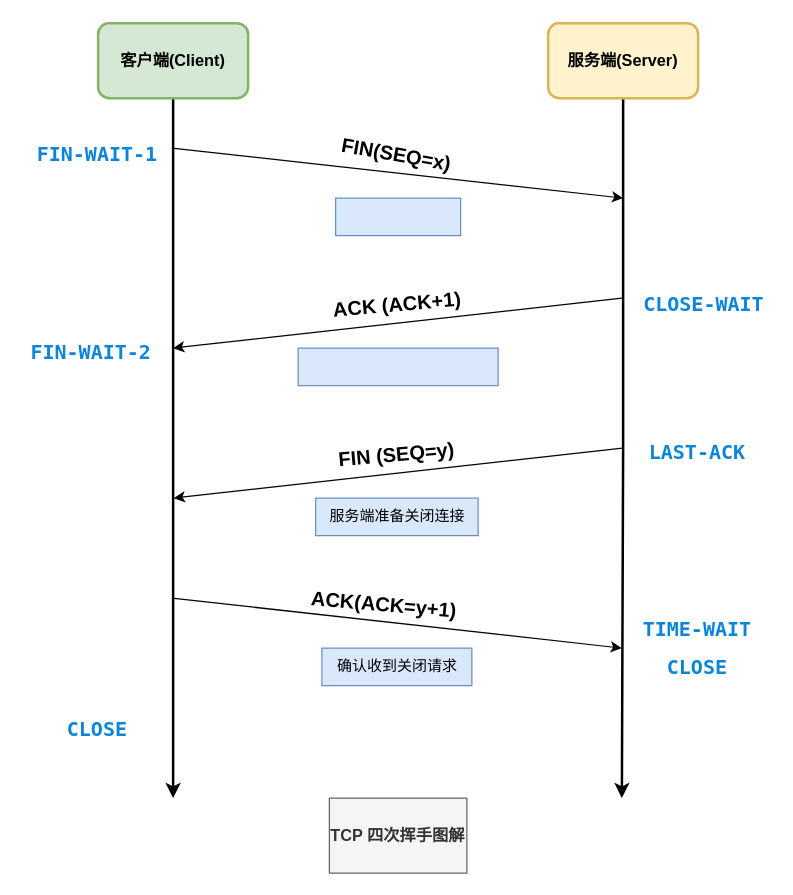
The diagram is 793 pixels wide and 895 high, and some of its shapes have lost their labels. Each missing label, with the centre of its shape:
"确认已经收到客户端请求" goes at pixel 397 366.
"请求关闭连接" goes at pixel 397 216.
